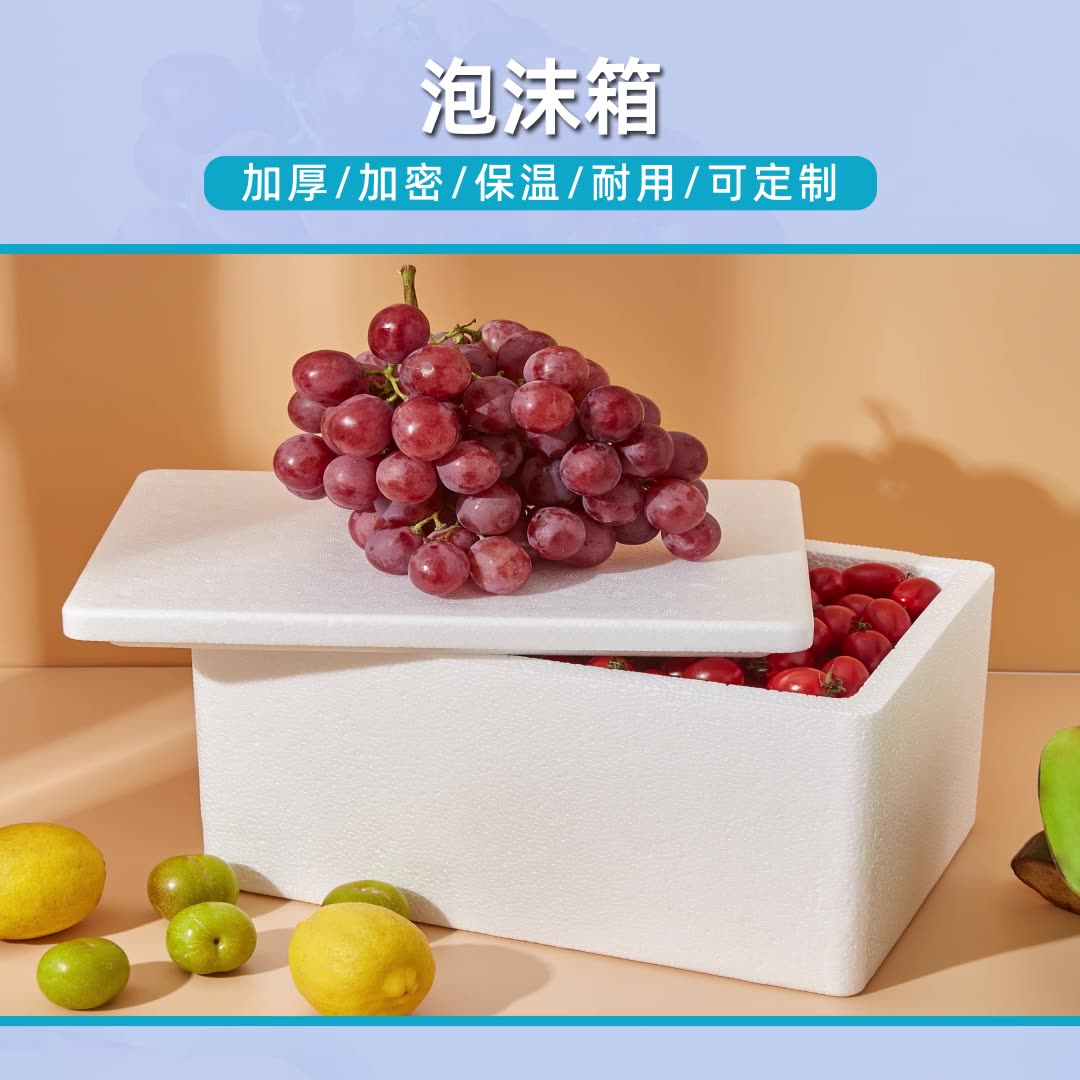泡沫箱: (64, 471, 994, 996)
